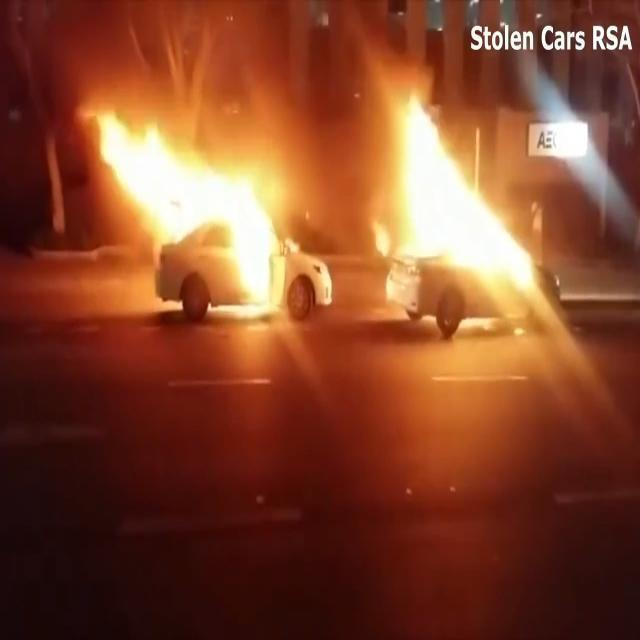fire: (99, 102, 282, 304), (388, 91, 534, 300)
